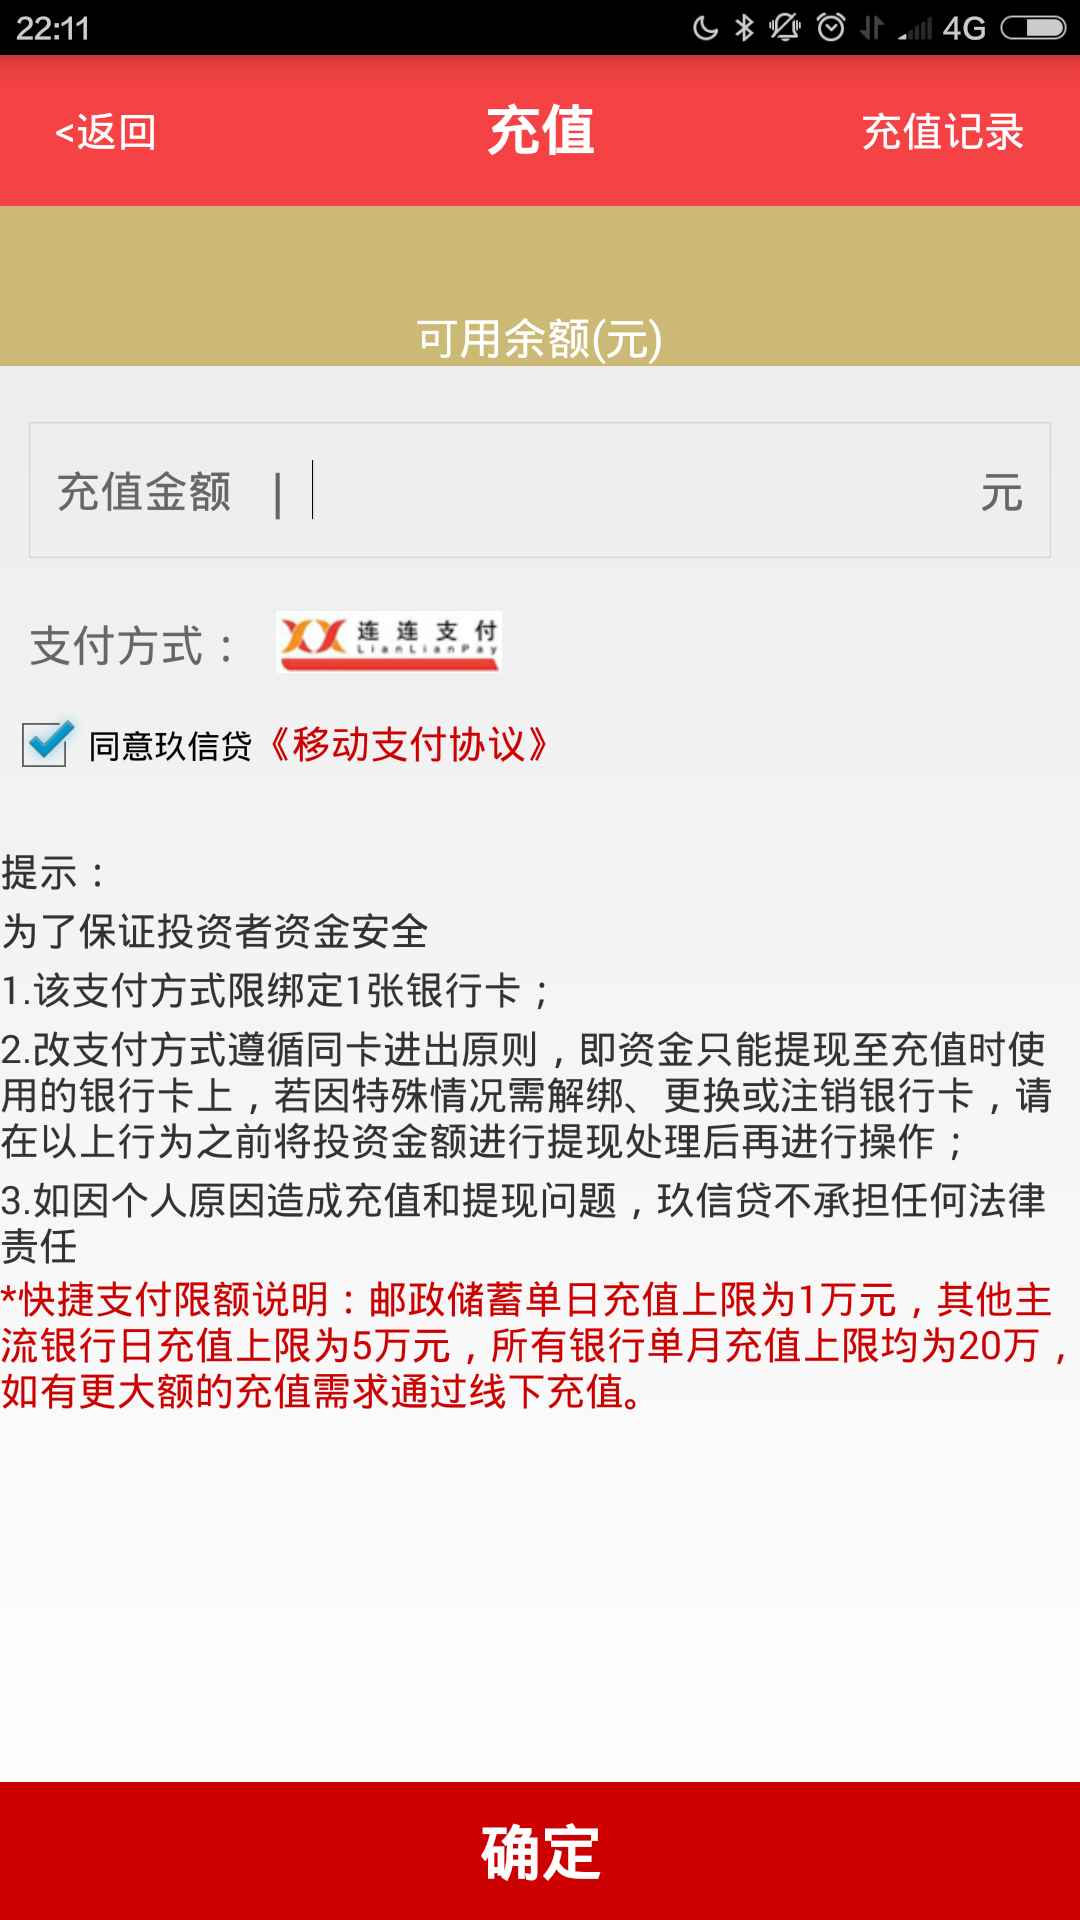checkbox: (16, 712, 575, 786)
textview: (16, 414, 1080, 572)
